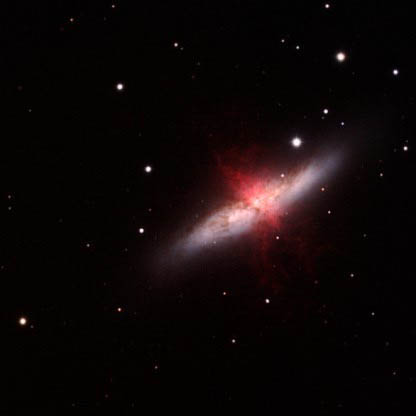Messier 82: (128, 107, 362, 288)
